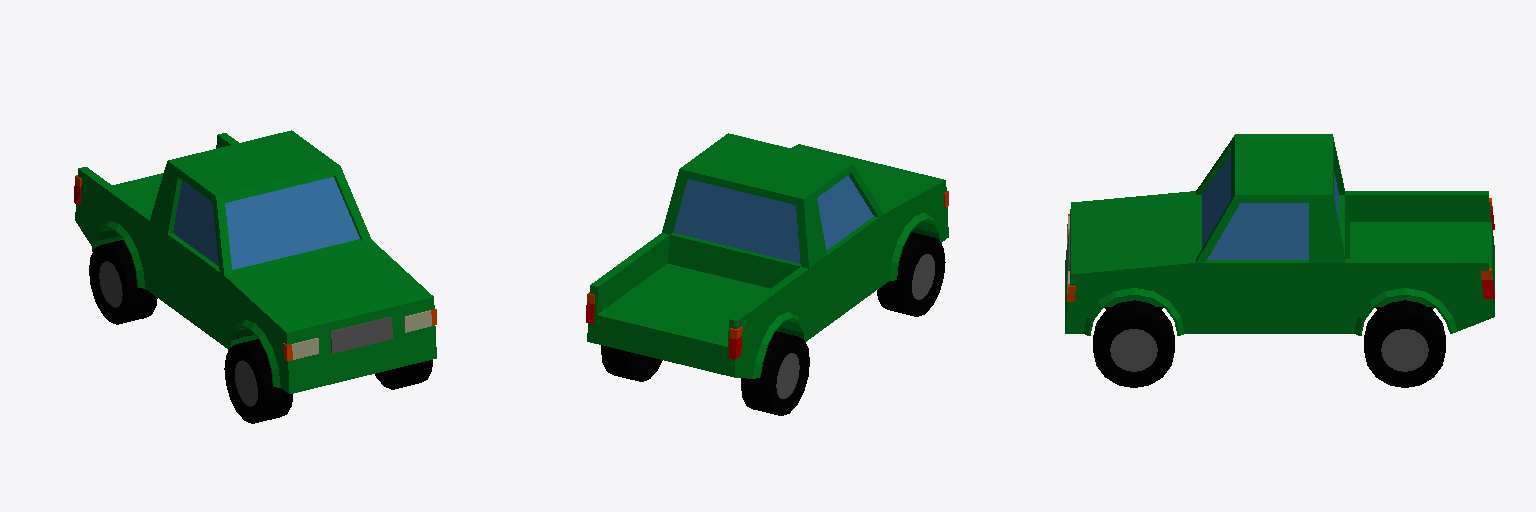
File: car-pickup-green.obj
The picture shows the model from 3 angles: view 1: azimuth 30°, elevation 25°; view 2: azimuth 150°, elevation 25°; view 3: azimuth 270°, elevation 25°; orthographic projection.
Parts seen in each view (by area): view 1: car-pickup-green_Cube.594; view 2: car-pickup-green_Cube.594; view 3: car-pickup-green_Cube.594.
Boxes of the visible parts, x1,y1,x2,y2 form: car-pickup-green_Cube.594: [74, 130, 436, 423]; car-pickup-green_Cube.594: [586, 133, 948, 415]; car-pickup-green_Cube.594: [1065, 134, 1494, 387].
Bounding box in the file's own units: 0.8924 × 0.925 × 1.97.